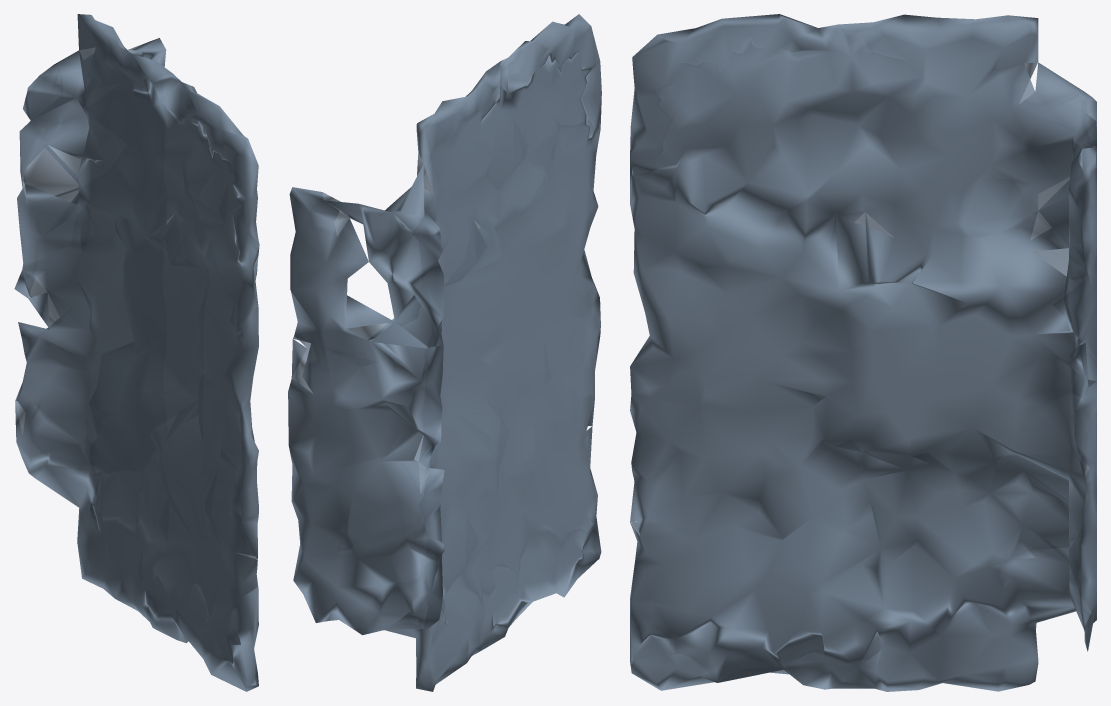
The model's file is monitor_0459_original.obj.
The picture shows the model from 3 angles, left to right: view 1: azimuth 30°, elevation 25°; view 2: azimuth 150°, elevation 25°; view 3: azimuth 270°, elevation 25°; orthographic projection. The views are drawn at different scales.
Size of the model in its own units: 0.4801 by 1.75 by 1.1.
